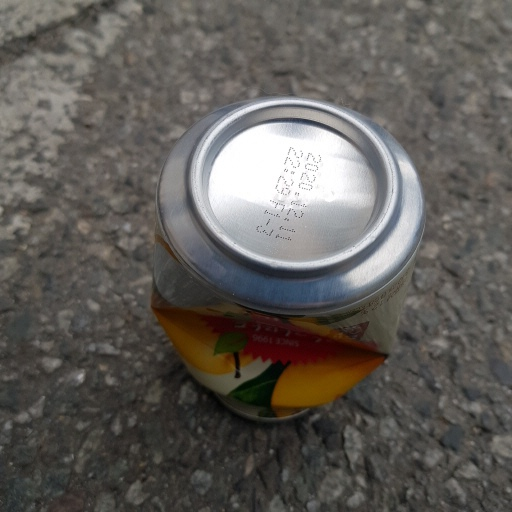Metal_0: (145, 97, 428, 421)
